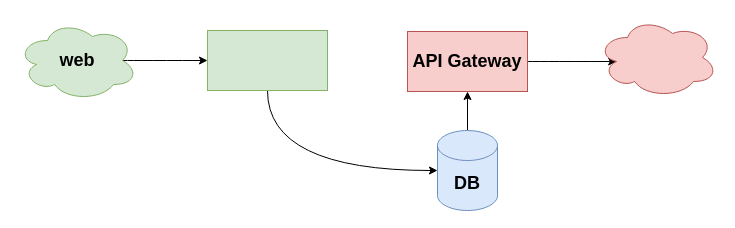
This 735x228 diagram has some shape labels left out. The centre of each missing label's shape, as x and y in pixels:
"Robot" goes at point 267,60.
"Users" goes at point 657,57.
